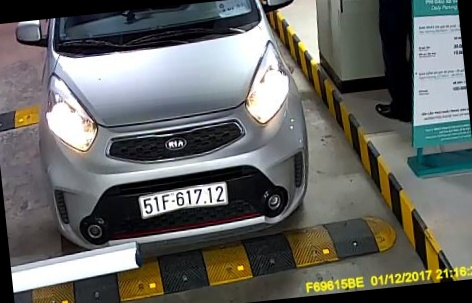plate: (121, 182, 248, 224)
